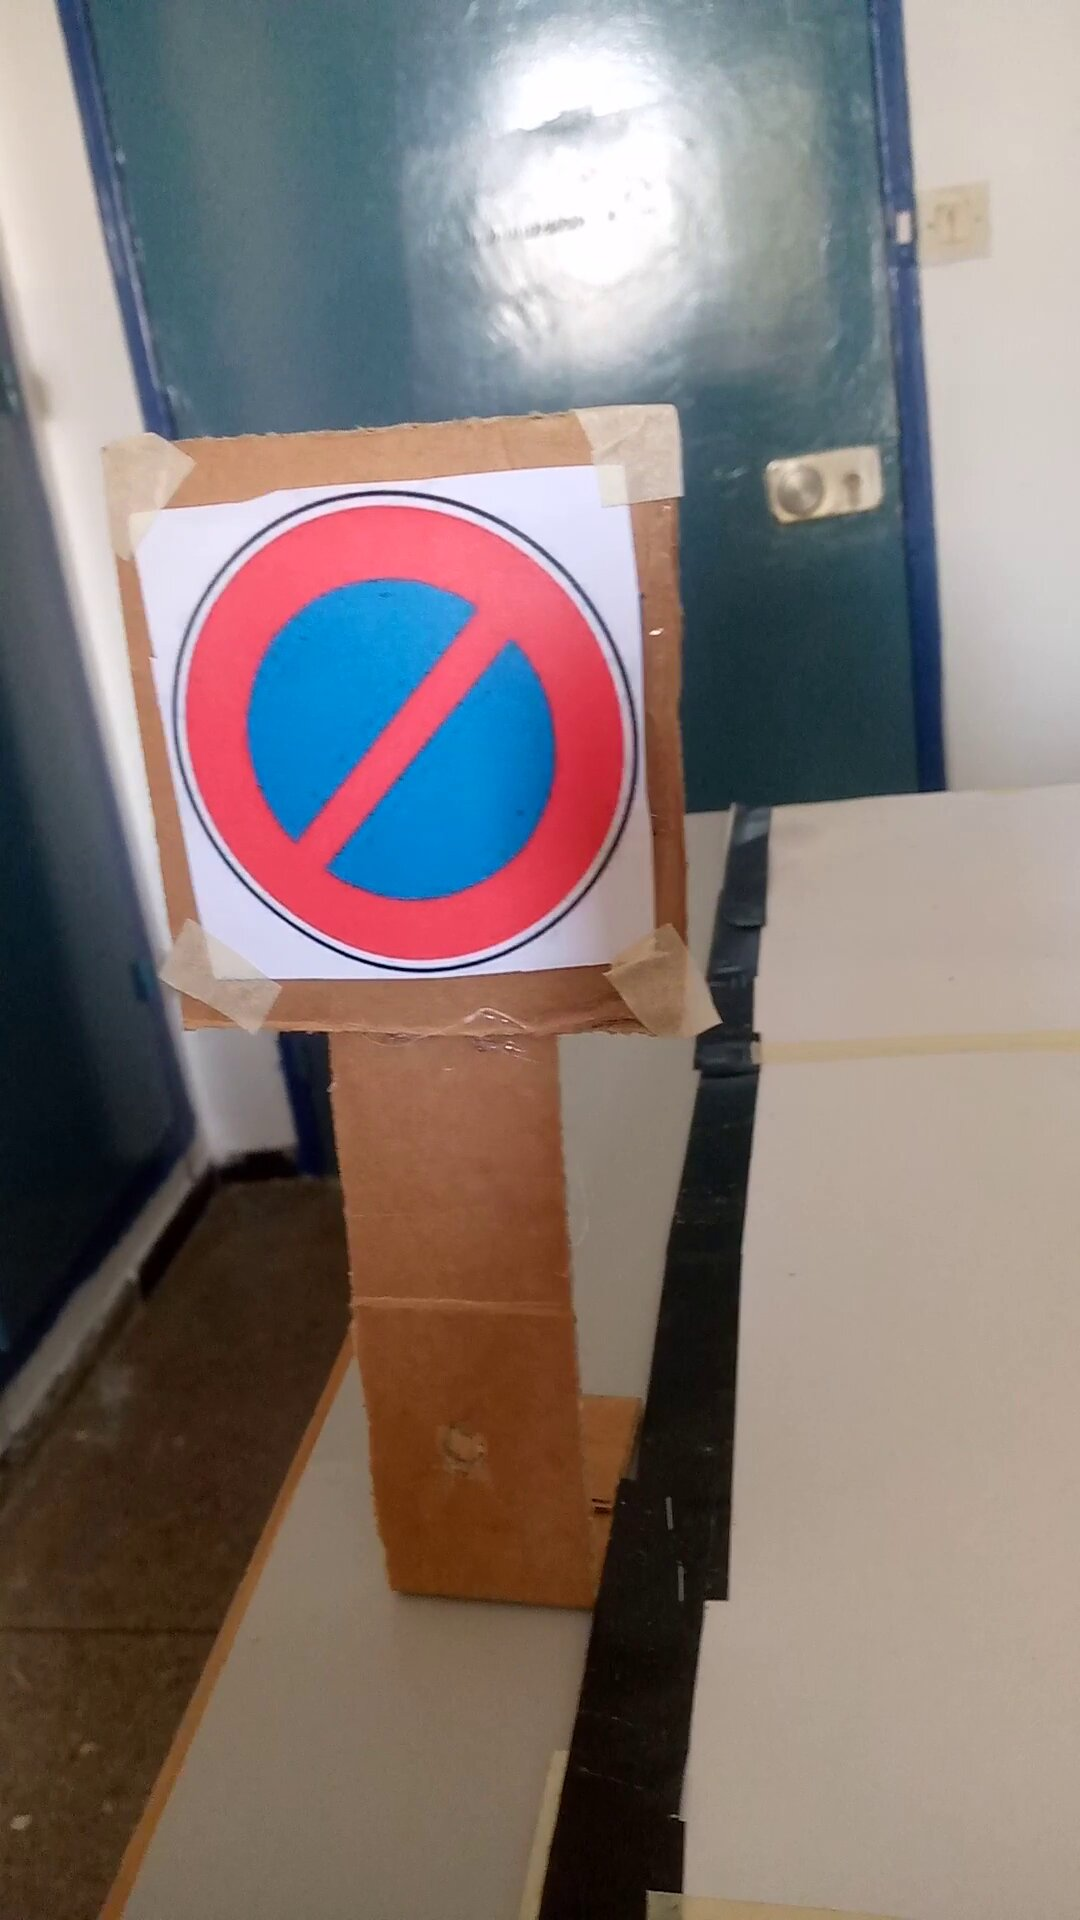panel110: (124, 506, 665, 982)
